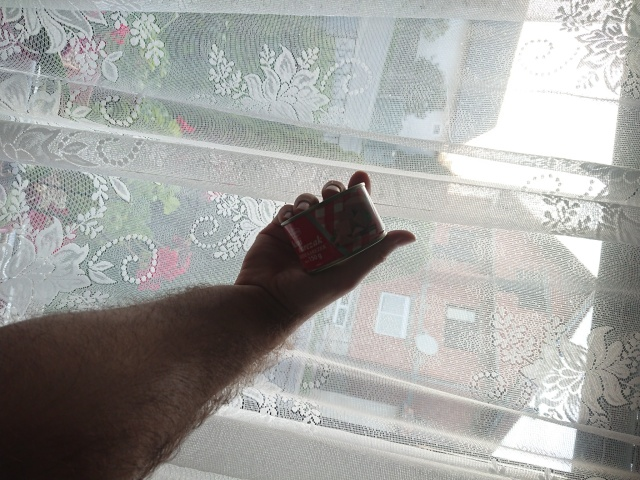Podravka Luncheon Meat 150g: (279, 181, 389, 276)
